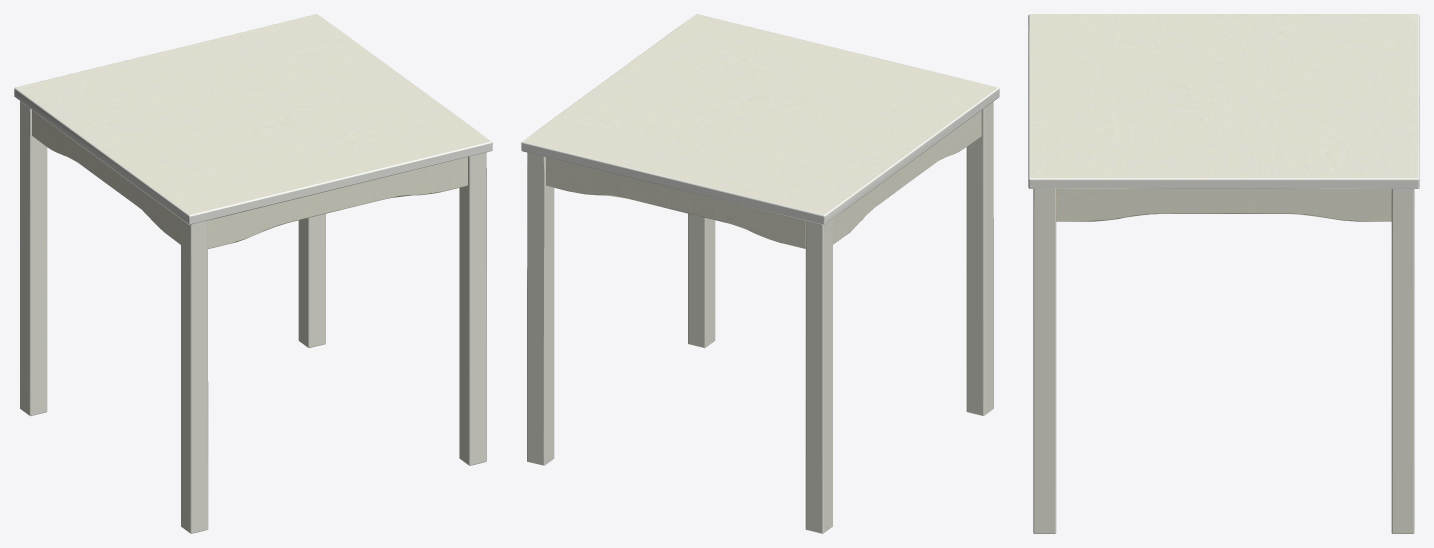
The picture shows the model from 3 angles, left to right: view 1: azimuth 30°, elevation 25°; view 2: azimuth 150°, elevation 25°; view 3: azimuth 270°, elevation 25°; orthographic projection. The views are drawn at different scales.
Visible parts, largest first — view 1: 90576719-HAUGA001; view 2: 90576719-HAUGA001; view 3: 90576719-HAUGA001.
Part boxes in pixels (x1,y1,x2,y2): 90576719-HAUGA001: (14,14,492,533); 90576719-HAUGA001: (521,14,999,533); 90576719-HAUGA001: (1028,14,1419,533).
Size of the model in its own units: 0.74 by 0.7497 by 0.74.
Materials: 1 (1 with a texture image).
